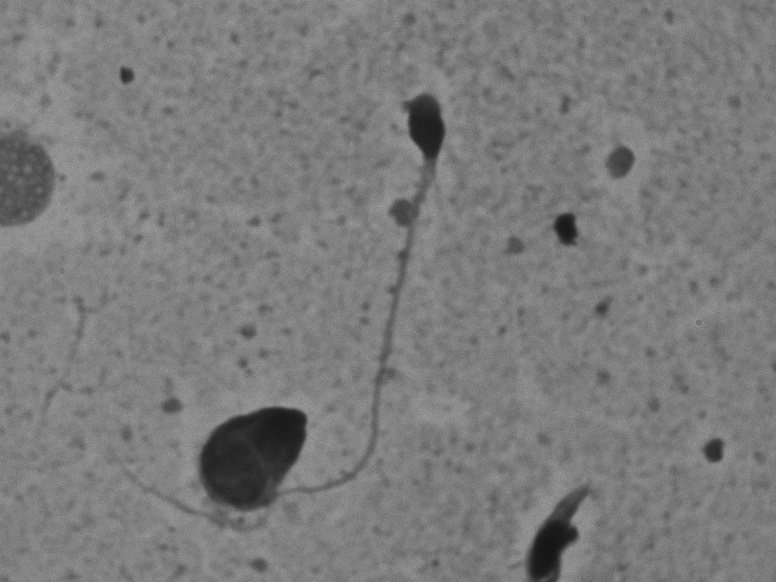Abnormal: (101, 85, 484, 547)
